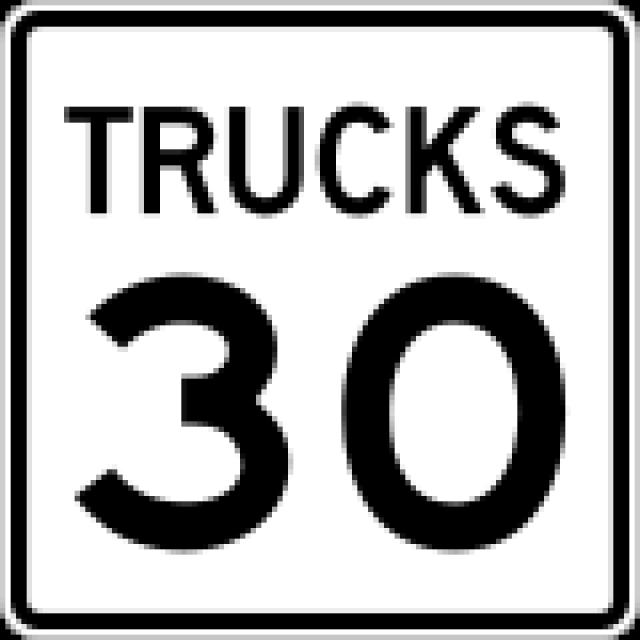Speed Limit -30-: (52, 247, 586, 573)
